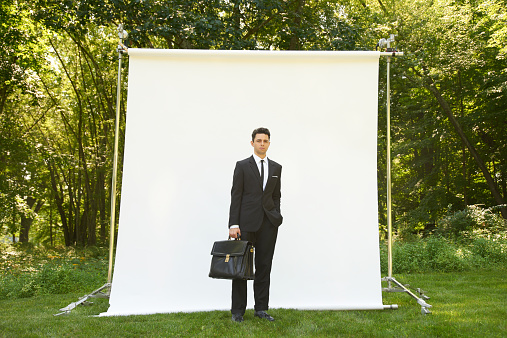em pe: (227, 122, 284, 327)
